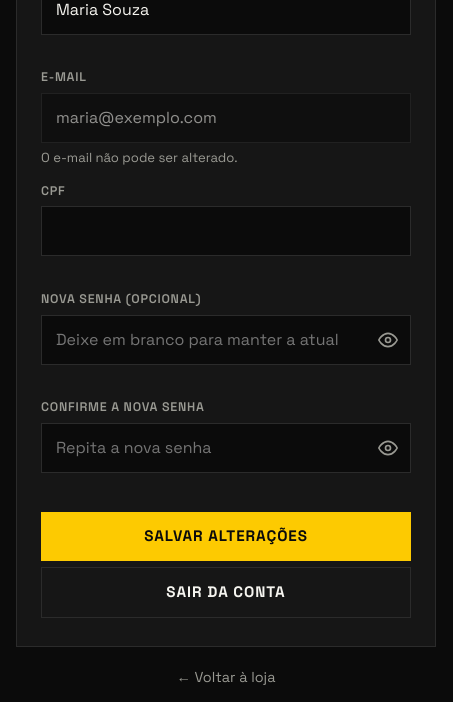
Scenario: Perfil › "Sair da conta" encerra a sessão e volta para a loja
The width and height of the screenshot is (453, 702).
(page scrolled)
Click the button "Sair da conta".
click(226, 592)  # box 41,567 -> 411,618
(page scrolled)
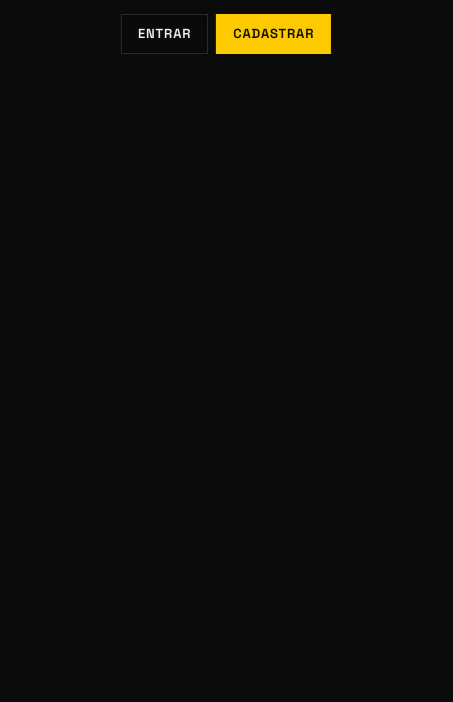
Check: the link "Entrar" is shown, box 121,14 -> 208,54
